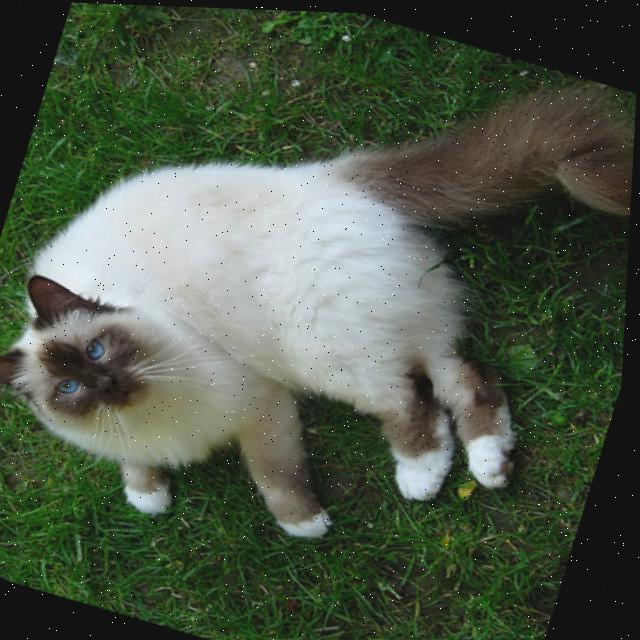Birman: (0, 0, 640, 634)
